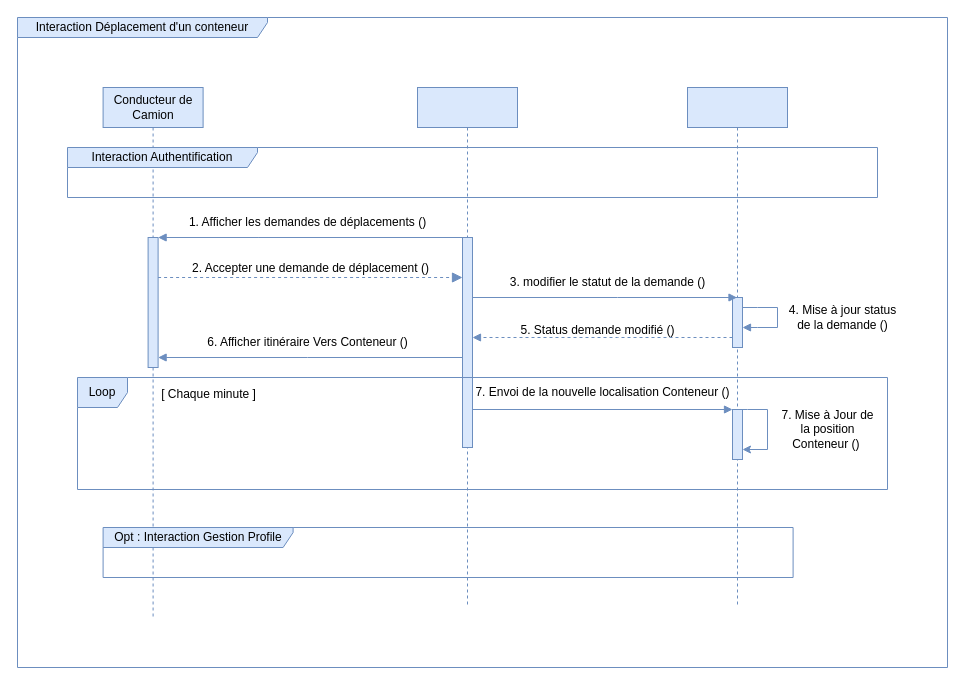
This 965x685 diagram has some shape labels left out. The shapes that lost their labels are listed below. From the top down, each one's box as (x1, y1, x2, y2) in pixels, then its label:
(416, 86, 518, 608): Systeme
(686, 86, 788, 608): SGBD
